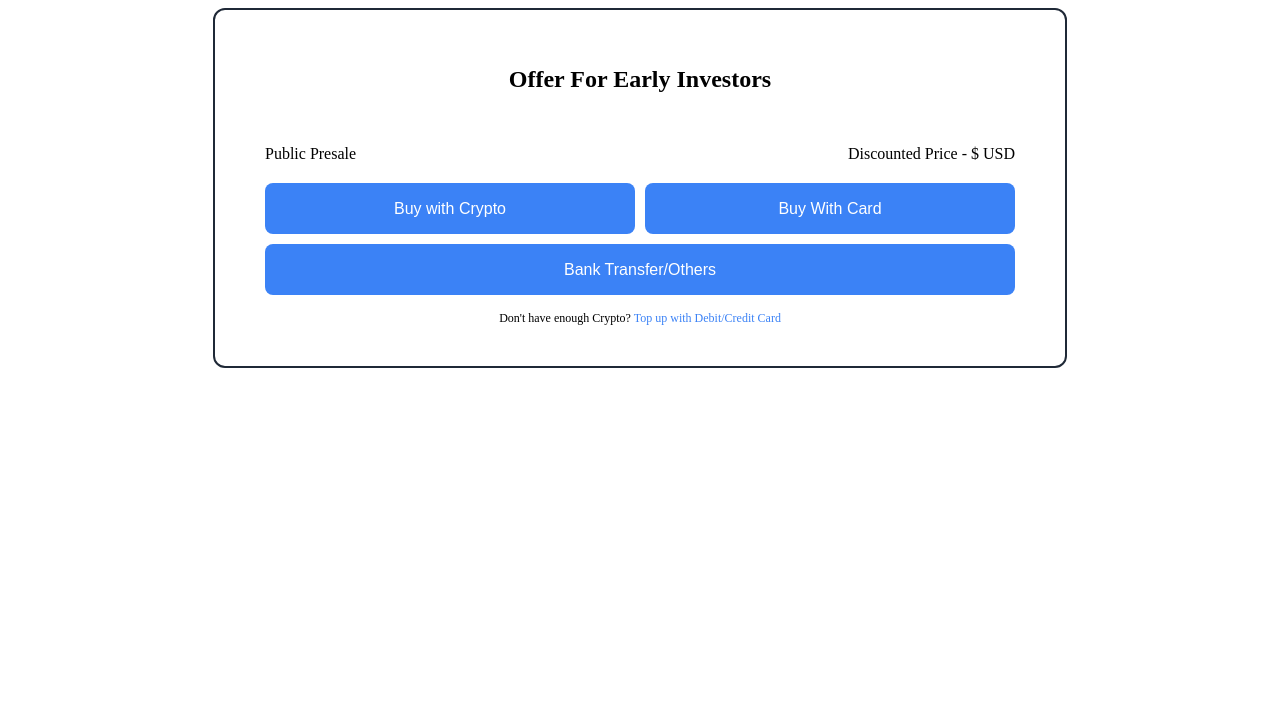
Scenario: PreSale › closes modals when close button is clicked
# Open top up modal
Click the text "Top up with Debit/Credit Card".
click(707, 318)  # box x1=634 y1=311 x2=781 y2=325
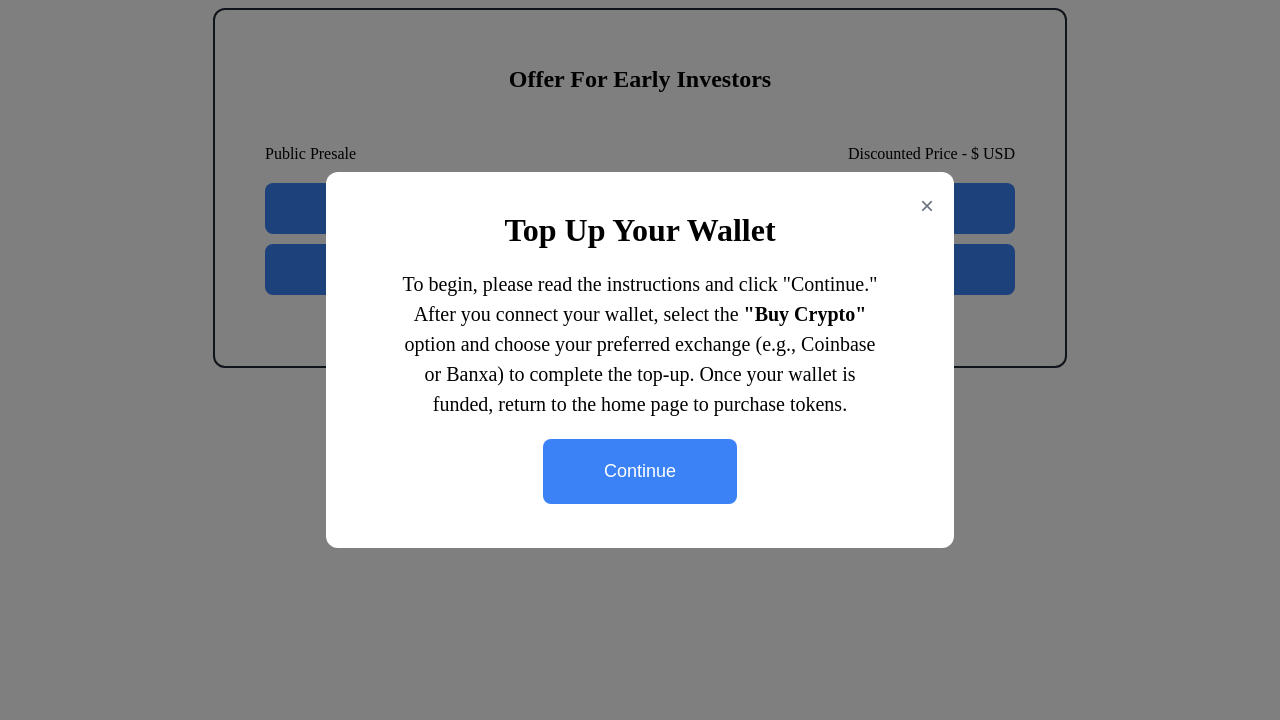
Now the heading "Top Up Your Wallet" is shown, box x1=504 y1=212 x2=776 y2=248
# Close modal
Click the button "×".
click(927, 206)  # box x1=916 y1=188 x2=938 y2=224
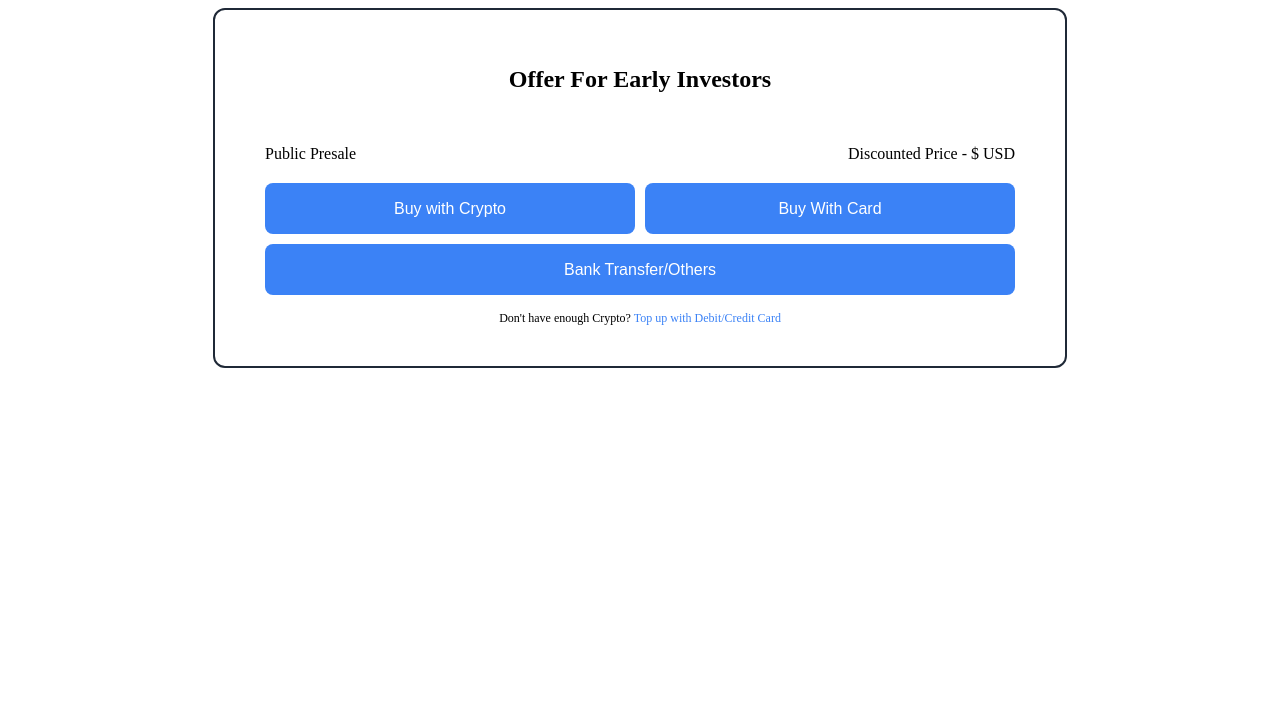
Now the heading "Top Up Your Wallet" is gone
